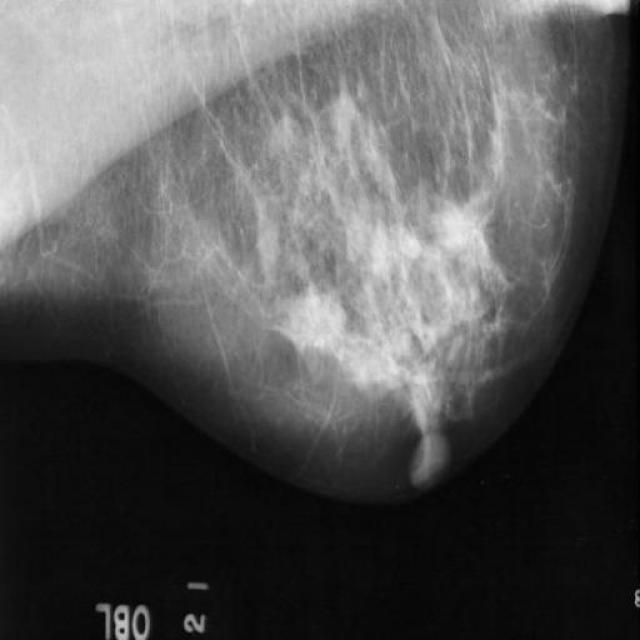cancer: (476, 282, 532, 352)
